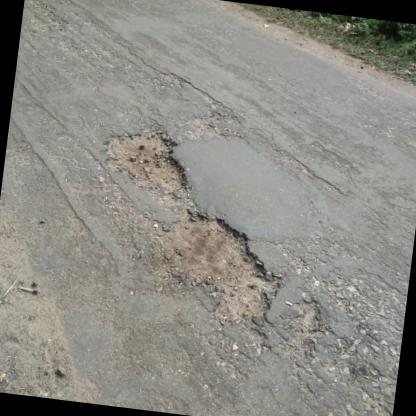pothole: (143, 206, 286, 324), (93, 119, 200, 200), (287, 298, 324, 336)
